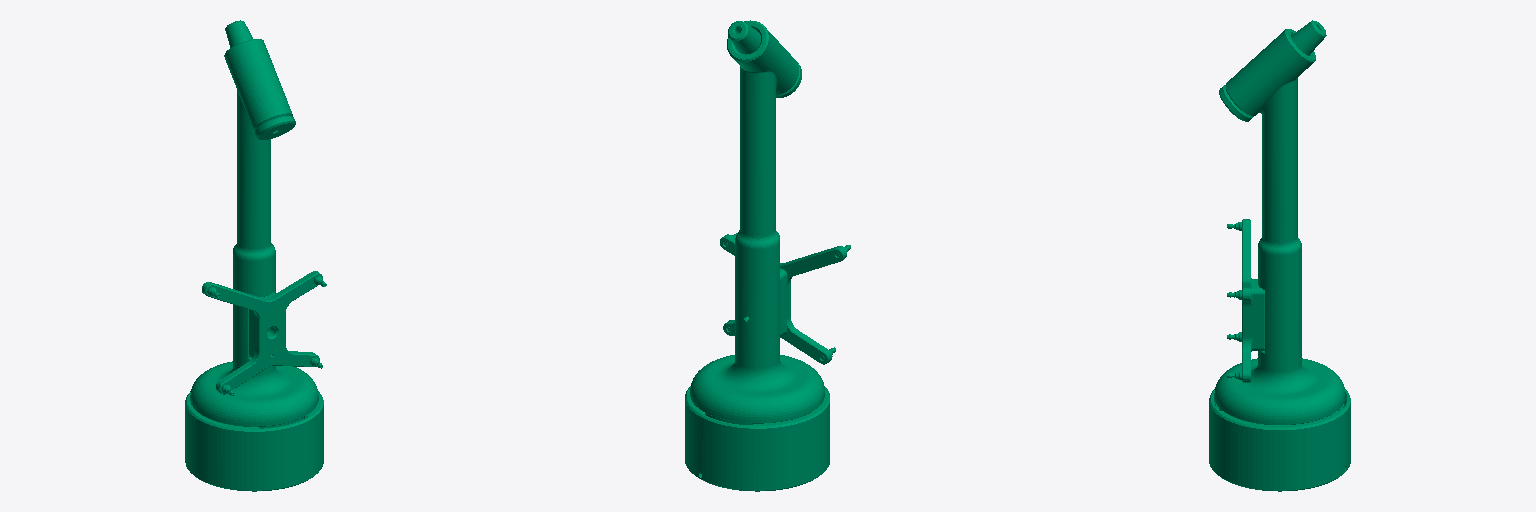
The robot description file, URDF, robot "elfin5":
<?xml version="1.0" encoding="utf-8"?>
<!-- =================================================================================== -->
<!-- |    This document was autogenerated by xacro from elfin5.urdf.xacro              | -->
<!-- |    EDITING THIS FILE BY HAND IS NOT RECOMMENDED                                 | -->
<!-- =================================================================================== -->
<robot name="elfin5">
  <material name="black">
    <color rgba="0.0 0.0 0.0 1.0"/>
  </material>
  <material name="blue">
    <color rgba="0.0 0.0 0.8 1.0"/>
  </material>
  <material name="green">
    <color rgba="0.0 0.8 0.0 1.0"/>
  </material>
  <material name="grey">
    <color rgba="0.2 0.2 0.2 1.0"/>
  </material>
  <material name="orange">
    <color rgba="1.0 0.423529411765 0.0392156862745 1.0"/>
  </material>
  <material name="brown">
    <color rgba="0.870588235294 0.811764705882 0.764705882353 1.0"/>
  </material>
  <material name="red">
    <color rgba="0.8 0.0 0.0 1.0"/>
  </material>
  <material name="white">
    <color rgba="1.0 1.0 1.0 1.0"/>
  </material>
  <material name="metal">
    <color rgba="0.768627450980392 0.749019607843137 0.729411764705882 1"/>
  </material>
  <material name="metal_grey">
    <color rgba="0.501960784313725 0.501960784313725 0.501960784313725 1"/>
  </material>
  <material name="metal_white">
    <color rgba="0.866666666666667 0.866666666666667 0.890196078431373 1"/>
  </material>
  <!-- ros_control plugin -->
  <gazebo>
    <plugin filename="libgazebo_ros_control.so" name="gazebo_ros_control">
      <robotSimType>gazebo_ros_control/DefaultRobotHWSim</robotSimType>
      <legacyModeNS>true</legacyModeNS>
    </plugin>
  </gazebo>
  <gazebo reference="elfin_link2">
    <visual name="visual">
      <material>
        <script>
          <uri>file:/[local-path]/scripts/gazebo.material</uri>
          <name>Gazebo/Grey</name>
        </script>
      </material>
    </visual>
  </gazebo>
  <gazebo reference="elfin_link4">
    <visual name="visual">
      <material>
        <script>
          <uri>file:/[local-path]/scripts/gazebo.material</uri>
          <name>Gazebo/Grey</name>
        </script>
      </material>
    </visual>
  </gazebo>
  <transmission name="elfin_joint1_trans">
    <type>transmission_interface/SimpleTransmission</type>
    <joint name="elfin_joint1">
      <hardwareInterface>hardware_interface/PositionJointInterface</hardwareInterface>
    </joint>
    <actuator name="elfin_joint1_motor">
      <mechanicalReduction>1</mechanicalReduction>
    </actuator>
  </transmission>
  <transmission name="elfin_joint2_trans">
    <type>transmission_interface/SimpleTransmission</type>
    <joint name="elfin_joint2">
      <hardwareInterface>hardware_interface/PositionJointInterface</hardwareInterface>
    </joint>
    <actuator name="elfin_joint2_motor">
      <mechanicalReduction>1</mechanicalReduction>
    </actuator>
  </transmission>
  <transmission name="elfin_joint3_trans">
    <type>transmission_interface/SimpleTransmission</type>
    <joint name="elfin_joint3">
      <hardwareInterface>hardware_interface/PositionJointInterface</hardwareInterface>
    </joint>
    <actuator name="elfin_joint3_motor">
      <mechanicalReduction>1</mechanicalReduction>
    </actuator>
  </transmission>
  <transmission name="elfin_joint4_trans">
    <type>transmission_interface/SimpleTransmission</type>
    <joint name="elfin_joint4">
      <hardwareInterface>hardware_interface/PositionJointInterface</hardwareInterface>
    </joint>
    <actuator name="elfin_joint4_motor">
      <mechanicalReduction>1</mechanicalReduction>
    </actuator>
  </transmission>
  <transmission name="elfin_joint5_trans">
    <type>transmission_interface/SimpleTransmission</type>
    <joint name="elfin_joint5">
      <hardwareInterface>hardware_interface/PositionJointInterface</hardwareInterface>
    </joint>
    <actuator name="elfin_joint5_motor">
      <mechanicalReduction>1</mechanicalReduction>
    </actuator>
  </transmission>
  <transmission name="elfin_joint6_trans">
    <type>transmission_interface/SimpleTransmission</type>
    <joint name="elfin_joint6">
      <hardwareInterface>hardware_interface/PositionJointInterface</hardwareInterface>
    </joint>
    <actuator name="elfin_joint6_motor">
      <mechanicalReduction>1</mechanicalReduction>
    </actuator>
  </transmission>
  <link name="world"/>
  <joint name="world_base" type="fixed">
    <origin rpy="0 0 0" xyz="0 0 0"/>
    <parent link="world"/>
    <child link="elfin_base_link"/>
  </joint>
  <link name="elfin_base_link"/>
  <joint name="elfin_base_joint" type="fixed">
    <origin rpy="0 0 1.57079632679" xyz="0 0 0"/>
    <parent link="elfin_base_link"/>
    <child link="elfin_base"/>
  </joint>
  <link name="elfin_base">
    <inertial>
      <origin rpy="0 0 0" xyz="0.000209 0.001319 0.025619"/>
      <mass value="2.13370989"/>
      <inertia ixx="0.0040358799" ixy="0.000175512" ixz="5.8401e-06" iyy="0.0041550303" iyz="3.38355e-05" izz="0.0070803951"/>
    </inertial>
    <visual>
      <origin rpy="0 0 0" xyz="0 0 0"/>
      <geometry>
        <mesh filename="meshes/elfin_base.STL"/>
      </geometry>
      <material name="metal_white"/>
    </visual>
    <collision>
      <origin rpy="0 0 0" xyz="0 0 0"/>
      <geometry>
        <mesh filename="meshes/elfin_base.STL"/>
      </geometry>
    </collision>
  </link>
  <link name="elfin_link1">
    <inertial>
      <origin rpy="0 0 0" xyz="-0.0217491 0.1389011 0.0000125"/>
      <mass value="7.96222548"/>
      <inertia ixx="0.0401380494" ixy="0.0088981494" ixz="-3.09e-06" iyy="0.0222824535" iyz="-1.6068e-06" izz="0.0473608317"/>
    </inertial>
    <visual>
      <origin rpy="0 0 0" xyz="0 0 0"/>
      <geometry>
        <mesh filename="meshes/elfin_link1.STL"/>
      </geometry>
      <material name="metal"/>
    </visual>
    <collision>
      <origin rpy="0 0 0" xyz="0 0 0"/>
      <geometry>
        <mesh filename="meshes/elfin_link1.STL"/>
      </geometry>
    </collision>
  </link>
  <joint name="elfin_joint1" type="revolute">
    <origin rpy="1.57079632679 0 0" xyz="0 0 0.03"/>
    <parent link="elfin_base"/>
    <child link="elfin_link1"/>
    <axis xyz="0 1 0"/>
    <limit effort="34" lower="-6.28" upper="6.28" velocity="1.57"/>
  </joint>
  <link name="elfin_link2">
    <inertial>
      <origin rpy="0 0 0" xyz="-0.0522485 0.1580101 -0.0000003"/>
      <mass value="3.73459563"/>
      <inertia ixx="0.091957473" ixy="-0.0039070269" ixz="-7.416e-07" iyy="0.0051960204" iyz="-6.489e-06" izz="0.0909910446"/>
    </inertial>
    <visual>
      <origin rpy="0 0 0" xyz="0 0 0"/>
      <geometry>
        <mesh filename="meshes/elfin_link2.STL"/>
      </geometry>
      <material name="metal_grey"/>
    </visual>
    <collision>
      <origin rpy="0 0 0" xyz="0 0 0"/>
      <geometry>
        <mesh filename="meshes/elfin_link2.STL"/>
      </geometry>
    </collision>
  </link>
  <joint name="elfin_joint2" type="revolute">
    <origin rpy="0 0 0" xyz="-0.078069 0.19 0"/>
    <parent link="elfin_link1"/>
    <child link="elfin_link2"/>
    <axis xyz="-1 0 0"/>
    <limit effort="34" lower="-2.356" upper="2.356" velocity="1.57"/>
  </joint>
  <link name="elfin_link3">
    <inertial>
      <origin rpy="0 0 0" xyz="0.0587091 -0.0414608 -0.0000210"/>
      <mass value="4.71497847"/>
      <inertia ixx="0.0163101015" ixy="0.003836235" ixz="-5.562e-07" iyy="0.0098219049" iyz="-2.0703e-06" izz="0.0201630843"/>
    </inertial>
    <visual>
      <origin rpy="0 0 0" xyz="0 0 0"/>
      <geometry>
        <mesh filename="meshes/elfin_link3.STL"/>
      </geometry>
      <material name="metal"/>
    </visual>
    <collision>
      <origin rpy="0 0 0" xyz="0 0 0"/>
      <geometry>
        <mesh filename="meshes/elfin_link3.STL"/>
      </geometry>
    </collision>
  </link>
  <joint name="elfin_joint3" type="revolute">
    <origin rpy="3.14159265359 0 0" xyz="0 0.38 0"/>
    <parent link="elfin_link2"/>
    <child link="elfin_link3"/>
    <axis xyz="1 0 0"/>
    <limit effort="104" lower="-2.67" upper="2.67" velocity="1.57"/>
  </joint>
  <link name="elfin_link4">
    <inertial>
      <origin rpy="0 0 0" xyz="-0.0587964 0.1436154 -0.0000478"/>
      <mass value="1.46783034"/>
      <inertia ixx="0.0167614269" ixy="0.0047923428" ixz="-1.6377e-06" iyy="0.004072002" iyz="6.0255e-06" izz="0.0187714101"/>
    </inertial>
    <visual>
      <origin rpy="0 0 0" xyz="0 0 0"/>
      <geometry>
        <mesh filename="meshes/elfin_link4.STL"/>
      </geometry>
      <material name="metal_grey"/>
    </visual>
    <collision>
      <origin rpy="0 0 0" xyz="0 0 0"/>
      <geometry>
        <mesh filename="meshes/elfin_link4.STL"/>
      </geometry>
    </collision>
  </link>
  <joint name="elfin_joint4" type="revolute">
    <origin rpy="-3.14159265359 0 0" xyz="0.078069 -0.11342 0"/>
    <parent link="elfin_link3"/>
    <child link="elfin_link4"/>
    <axis xyz="0 1 0"/>
    <limit effort="104" lower="-6.28" upper="6.28" velocity="1.57"/>
  </joint>
  <link name="elfin_link5">
    <inertial>
      <origin rpy="0 0 0" xyz="-0.0159154 -0.0365660 0.0000004"/>
      <mass value="2.49795291"/>
      <inertia ixx="0.0060069291" ixy="0.0014650926" ixz="3.09e-08" iyy="0.0034992705" iyz="-3.708e-07" izz="0.0076218249"/>
    </inertial>
    <visual>
      <origin rpy="0 0 0" xyz="0 0 0"/>
      <geometry>
        <mesh filename="meshes/elfin_link5.STL"/>
      </geometry>
      <material name="metal"/>
    </visual>
    <collision>
      <origin rpy="0 0 0" xyz="0 0 0"/>
      <geometry>
        <mesh filename="meshes/elfin_link5.STL"/>
      </geometry>
    </collision>
  </link>
  <joint name="elfin_joint5" type="revolute">
    <origin rpy="-3.14159265359 0 0" xyz="0 0.30658 0"/>
    <parent link="elfin_link4"/>
    <child link="elfin_link5"/>
    <axis xyz="1 0 0"/>
    <limit effort="34" lower="-3.14" upper="3.14" velocity="1.57"/>
  </joint>
  <link name="elfin_link6">
    <inertial>
      <origin rpy="0 0 0" xyz="-0.0009237 -0.042691 -0.0003367"/>
      <mass value="0.45519408"/>
      <inertia ixx="0.0005996763" ixy="4.326e-06" ixz="-8.9301e-06" iyy="0.0006053928" iyz="1.545e-07" izz="0.0006024264"/>
    </inertial>
    <visual>
      <origin rpy="0 0 0" xyz="0 0 0"/>
      <geometry>
        <mesh filename="meshes/elfin_link6.STL"/>
      </geometry>
      <material name="metal_white"/>
    </visual>
    <collision>
      <origin rpy="0 0 0" xyz="0 0 0"/>
      <geometry>
        <mesh filename="meshes/elfin_link6.STL"/>
      </geometry>
    </collision>
  </link>
  <joint name="elfin_joint6" type="revolute">
    <origin rpy="0 0 0" xyz="0 -0.1065 0"/>
    <parent link="elfin_link5"/>
    <child link="elfin_link6"/>
    <axis xyz="0 -1 0"/>
    <limit effort="34" lower="-6.28" upper="6.28" velocity="1.57"/>
  </joint>
  <link name="elfin_end_link"/>
  <joint name="elfin_end_joint" type="fixed">
    <origin rpy="1.57079632679 1.57079632679 0" xyz="0 -0.04827 0"/>
    <parent link="elfin_link6"/>
    <child link="elfin_end_link"/>
  </joint>



  
    <!-- Create a fixed joint with a parameterized name. -->
  <joint name="measurement_tool_joint" type="fixed">
    <!-- The parent link must be read from the robot model it is attached to. -->
    <parent link="elfin_end_link"/>
    <child link="measurement_tool"/>
    <!-- The tool is directly attached to the flange. -->
    <origin rpy="0 3.14 0" xyz="0 0 0"/>
  </joint>

  <link name="measurement_tool">
    <contact>
      <lateral_friction value="10.0"/>
      <rolling_friction value="0.0"/>
      <contact_cfm value="0.0"/>
      <contact_erp value="1.0"/>
    </contact>
    <inertial>
      <origin rpy="0 0 0" xyz="0 0 0"/>
       <mass value="0.0"/>
       <inertia ixx="0.0001" ixy="0" ixz="0" iyy="1" iyz="0" izz="0.0001"/>
    </inertial>
    <visual>
      <geometry>
        <!-- The path to the visual meshes in the package. -->
        <mesh filename="meshes/SSR_end_effector.stl" scale="0.001 0.001 0.001"/>
      </geometry>
    </visual>
    <collision>
      <geometry>
        <mesh filename="meshes/SSR_end_effector.stl" scale="0.001 0.001 0.001"/>
      </geometry>
    </collision> 
  </link>


</robot>

--- Facts derived from the render (not from the file) ---
Views: 3 orthographic renders of the robot side by side, from view 1: azimuth 30°, elevation 25°; view 2: azimuth 150°, elevation 25°; view 3: azimuth 270°, elevation 25°.
Model elfin5 with 11 links and 10 joints (6 revolute, 4 fixed), rooted at world, posed every joint at zero.
Links seen in each view (by area): view 1: measurement_tool; view 2: measurement_tool; view 3: measurement_tool.
Boxes of the visible links, box(x1,y1,x2,y2) form: measurement_tool: box(185, 20, 326, 491); measurement_tool: box(685, 20, 850, 491); measurement_tool: box(1209, 20, 1350, 491).
Bounding box of the posed robot: 0.0861 × 0.081 × 0.2779 m (x, y, z).
Meshes: 8 distinct files referenced, 1 mesh visuals loaded (1 binary STL); not drawn: 7 (reference not matched to a file when rendering).